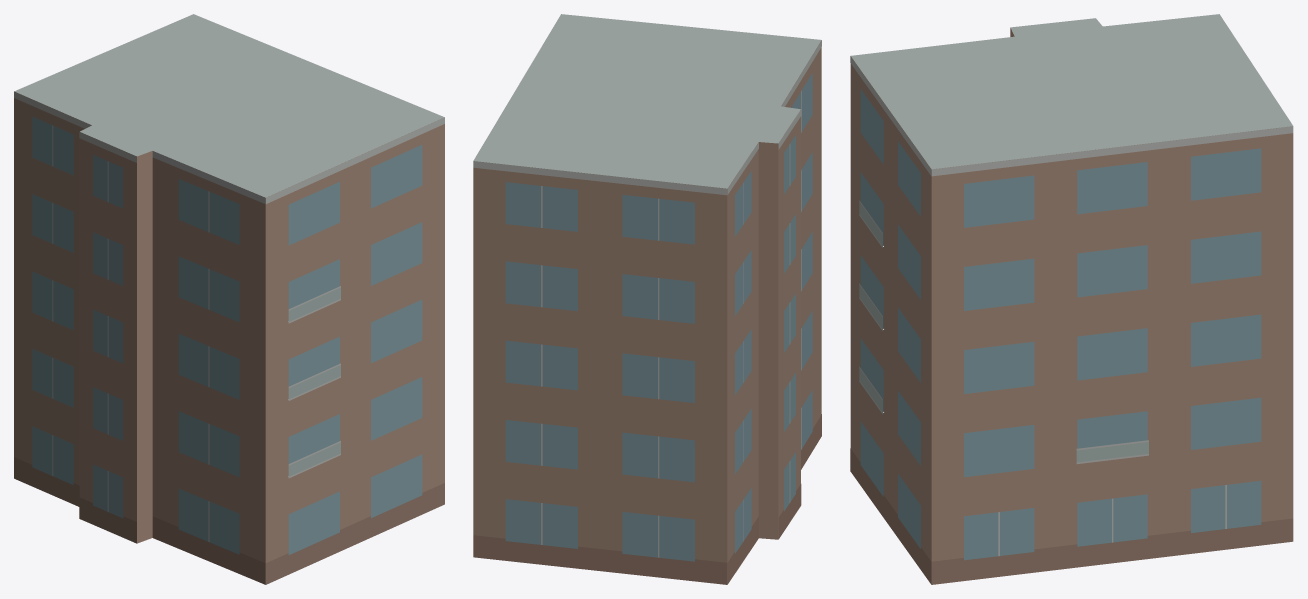
The model's file is survey-upis-32929301.glb.
3 renders of one model, left to right at view 1: azimuth 30°, elevation 25°; view 2: azimuth 150°, elevation 25°; view 3: azimuth 270°, elevation 25°, orthographic. The views are drawn at different scales.
Visible parts, largest first — view 1: survey-upis-32929301.tmp; view 2: survey-upis-32929301.tmp; view 3: survey-upis-32929301.tmp.
Boxes of the visible parts, x1,y1,x2,y2 form: survey-upis-32929301.tmp: (14,14,444,584); survey-upis-32929301.tmp: (473,14,821,584); survey-upis-32929301.tmp: (850,14,1293,584).
Size of the model in its own units: 11.56 by 14.4 by 13.92.
